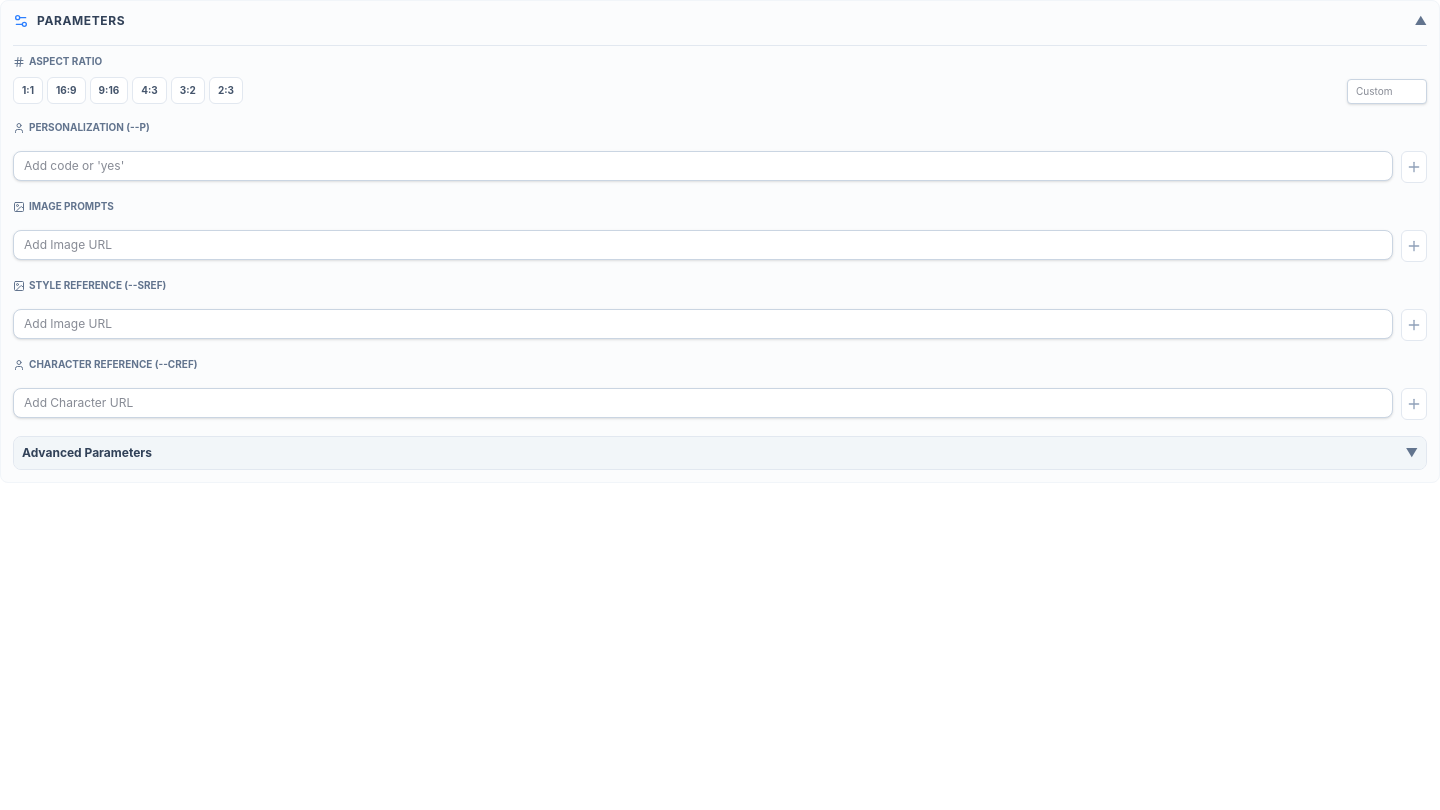
it: ParameterEditor › should render advanced parameters accordion and toggle display of inputs
// Clicking the accordion should open it
Click the button "Advanced Parameters ▼" at (87, 452), box [14,437,1426,469]
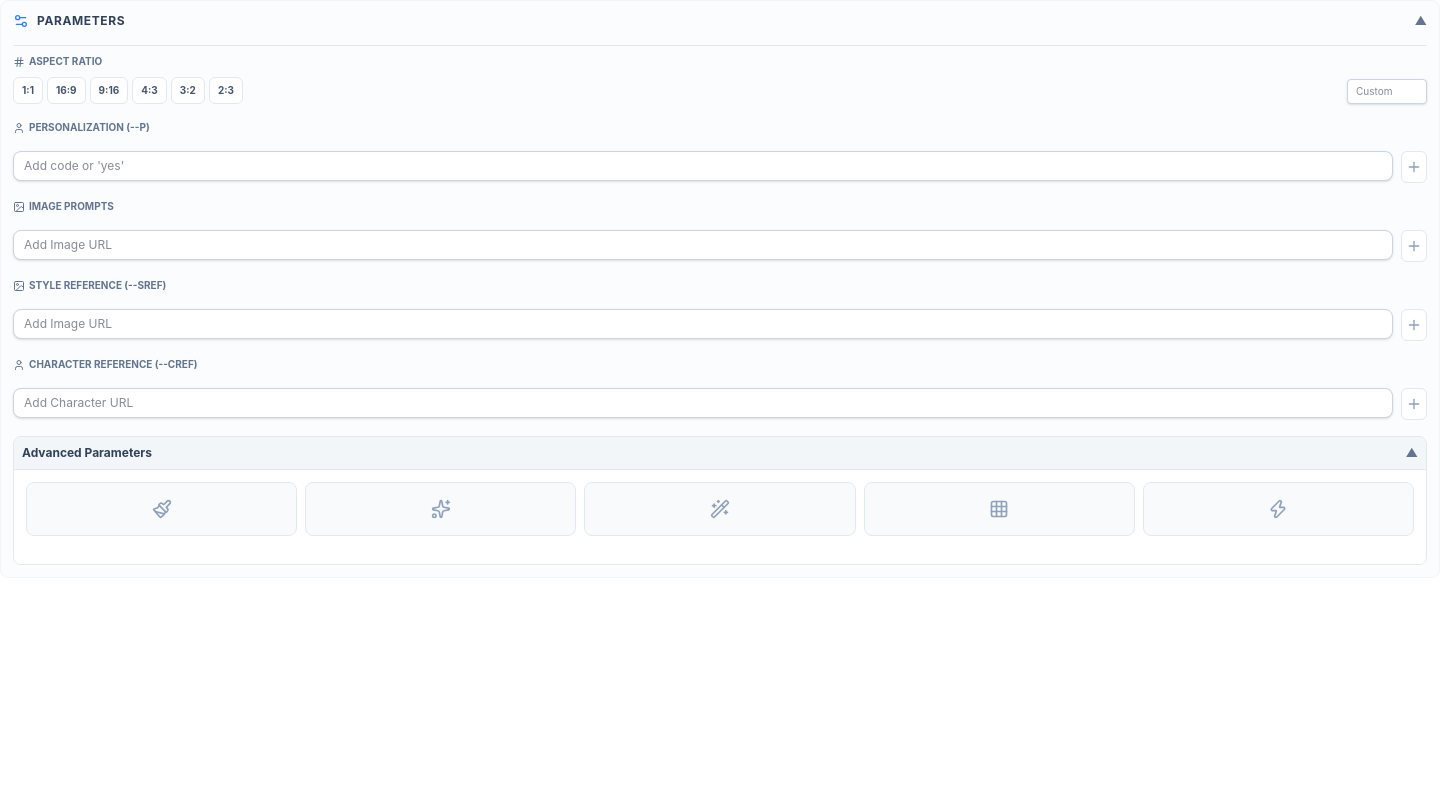
Result: the checkbox named "Stylize (--stylize)" is shown at [26,482,297,536]
Result: the checkbox named "Chaos (--chaos)" is shown at [305,482,576,536]
Result: the checkbox named "Weird (--weird)" is shown at [584,482,856,536]
